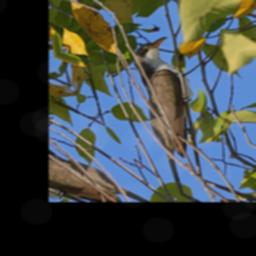Cuckoo: (101, 19, 253, 163)
